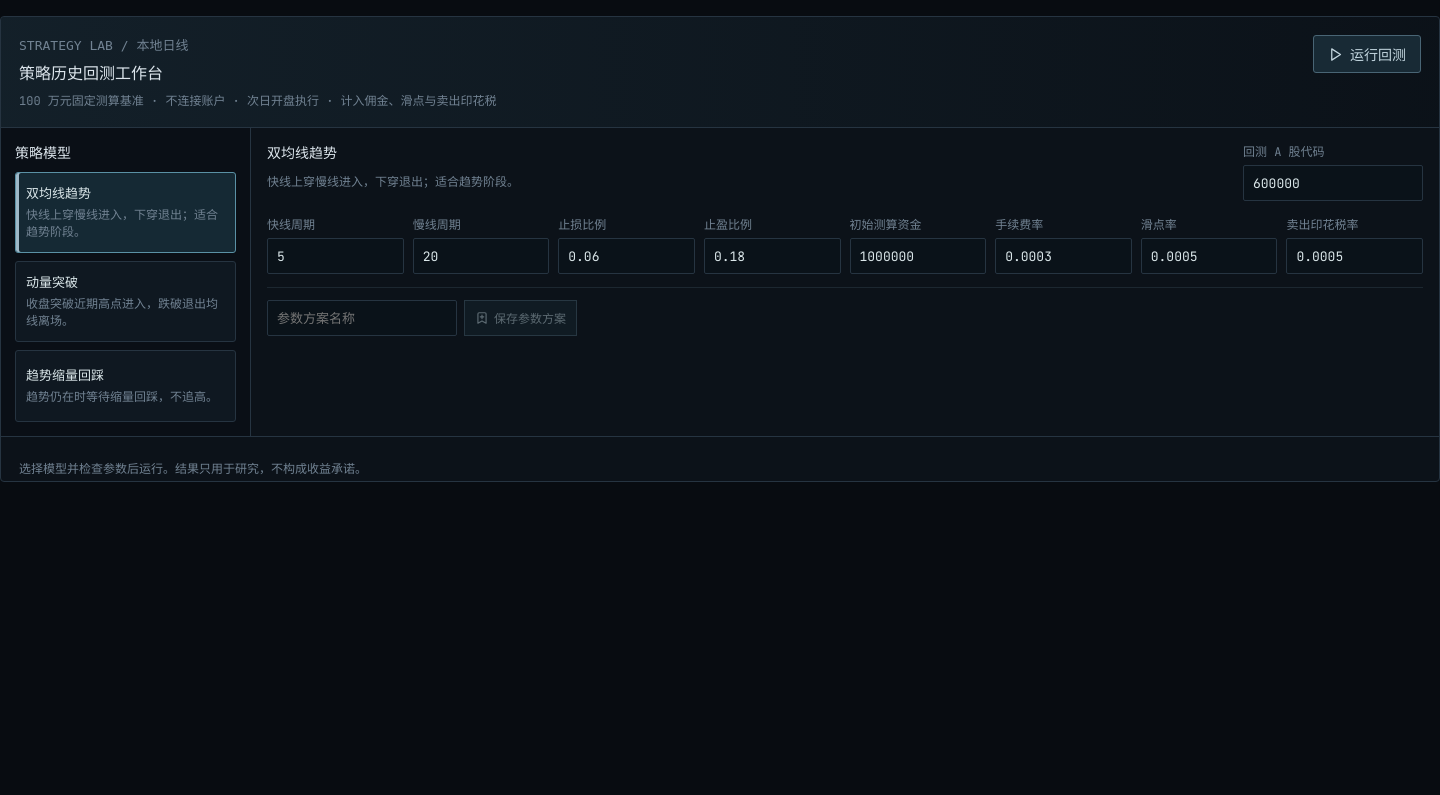
BacktestPanel › gates rolling stability labels when closed trades are below policy
Step 1. Click the button "运行回测" → (1367, 54), box [1313, 35, 1421, 73]
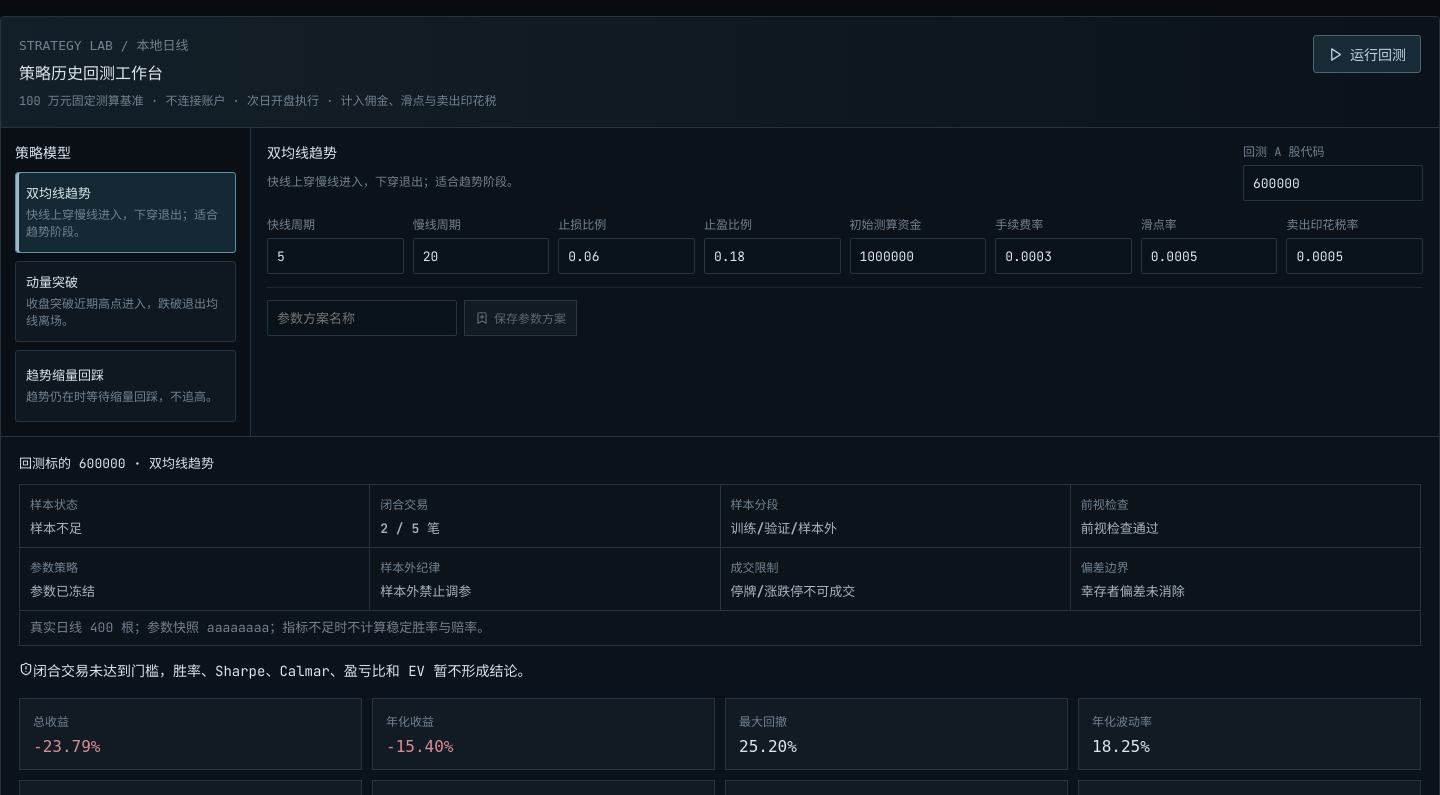
Result: the text "闭合交易未达到门槛，胜率、Sharpe、Calmar、盈亏比和 EV 暂不形成结论。" is shown at [19, 662, 531, 680]
